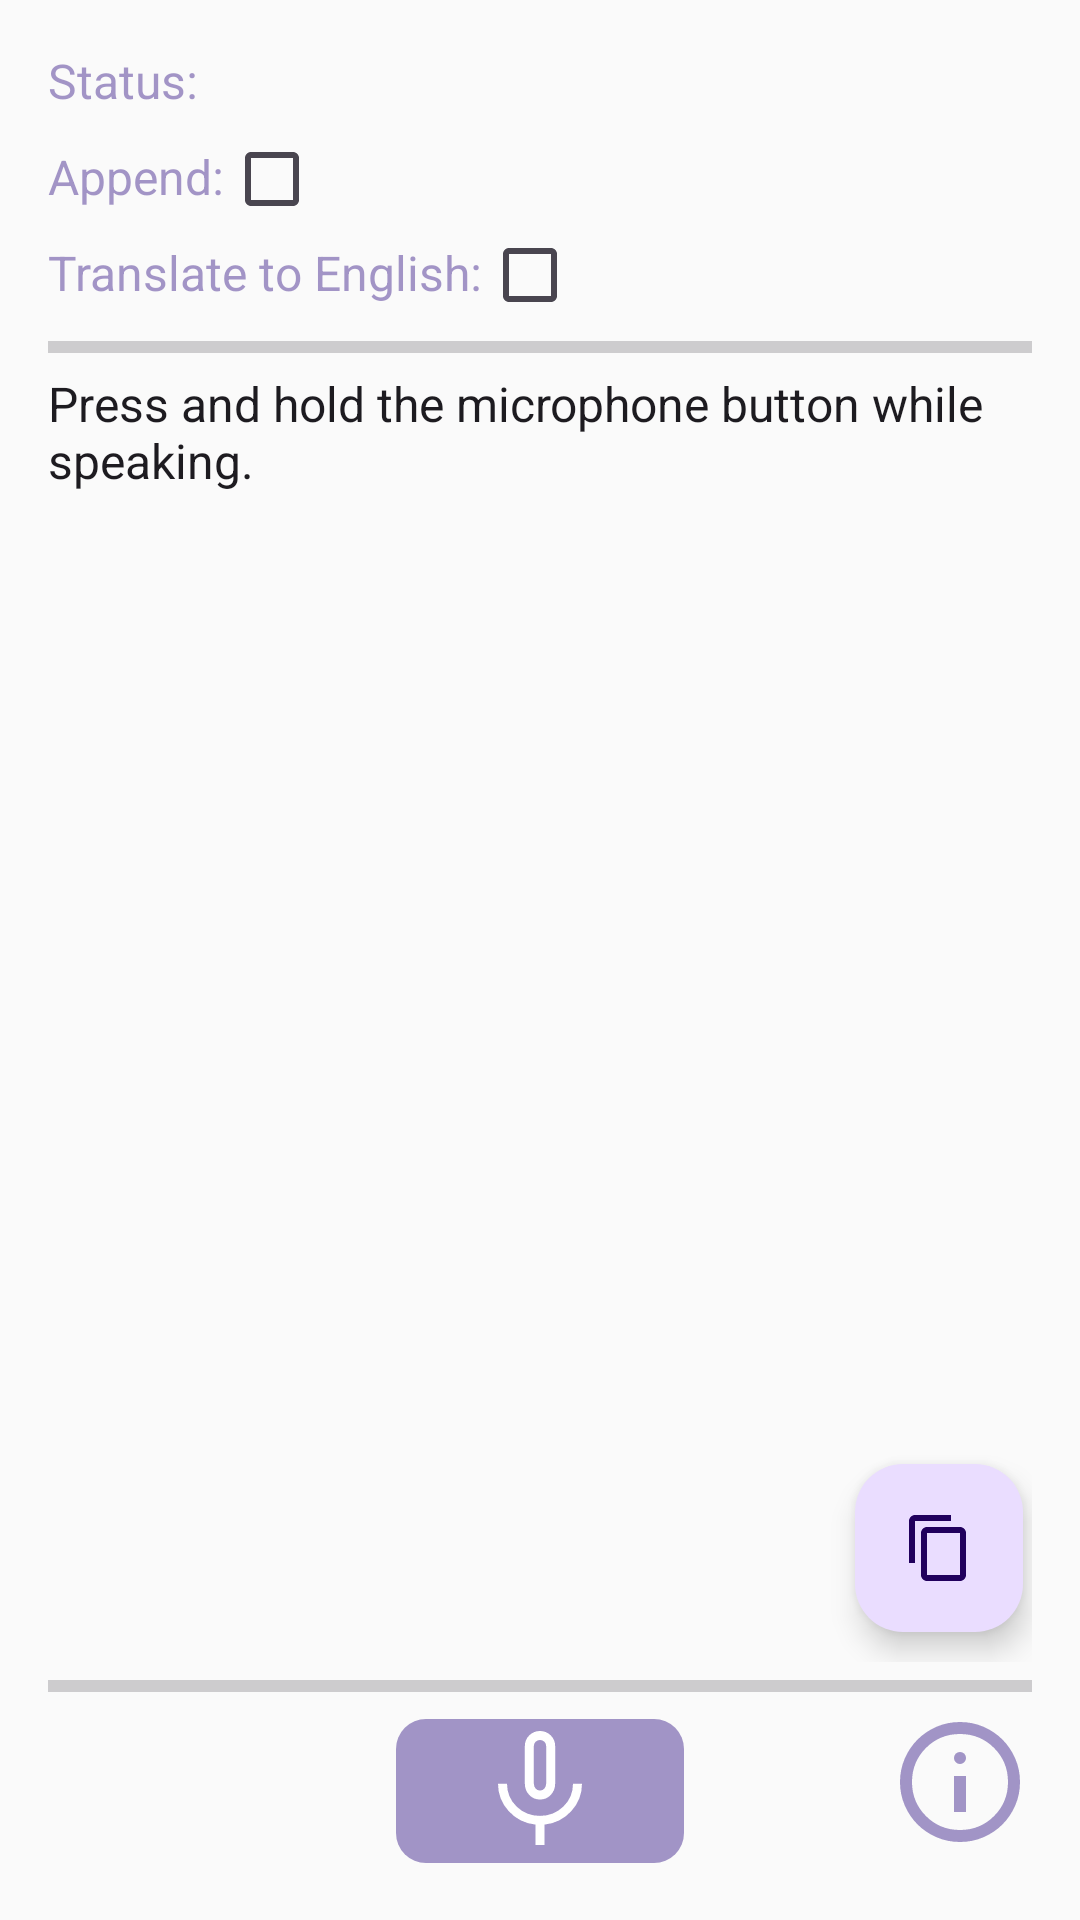

Screen size 1080px x 1920px. Icon name, then its box in pixels as (x1, y1, x2, y2):
Copy: (855, 1464, 1023, 1632)
Info: (900, 1722, 1020, 1842)
Record: (396, 1719, 684, 1863)
